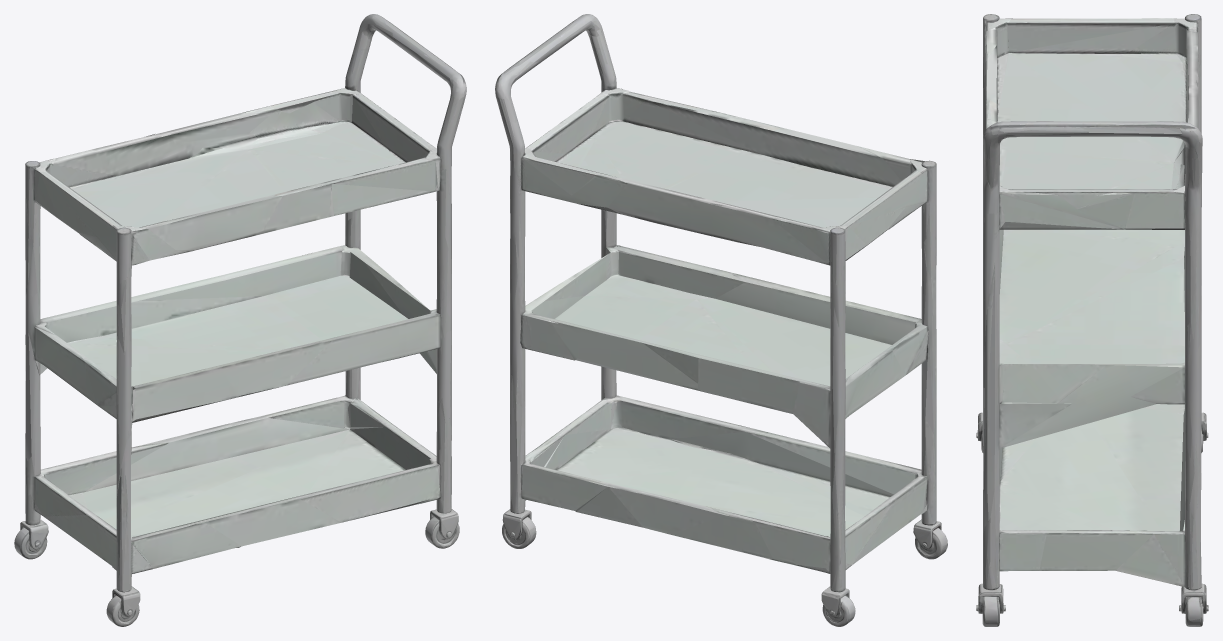
Rendered from shelf_cart_3tier.glb.
3 views of the same model, side by side, from view 1: azimuth 30°, elevation 25°; view 2: azimuth 150°, elevation 25°; view 3: azimuth 270°, elevation 25° (orthographic). The views are drawn at different scales.
Bounding box in the file's own units: 1.54 × 1.9 × 0.7807.
1 material, 1 textured.
